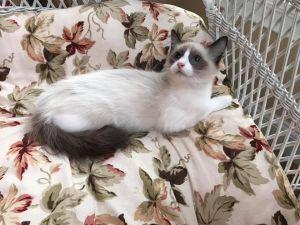ragdoll: (165, 27, 232, 90)
